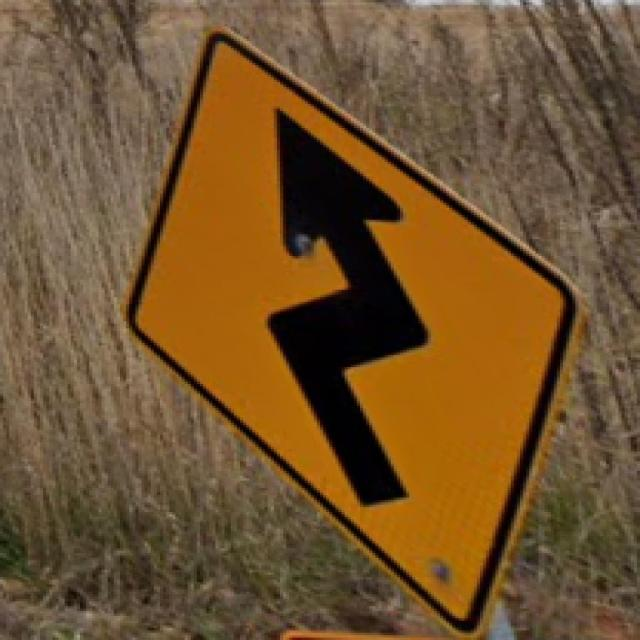Tikungan Ganda Pertama Ke Kanan: (110, 17, 584, 638)
